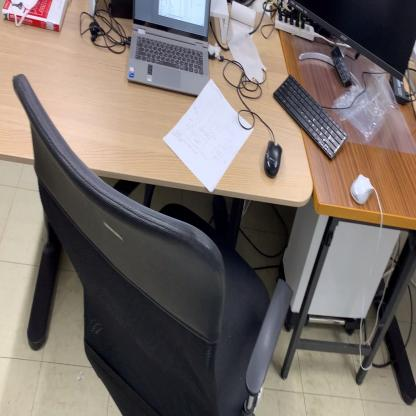chair: (12, 72, 292, 416)
